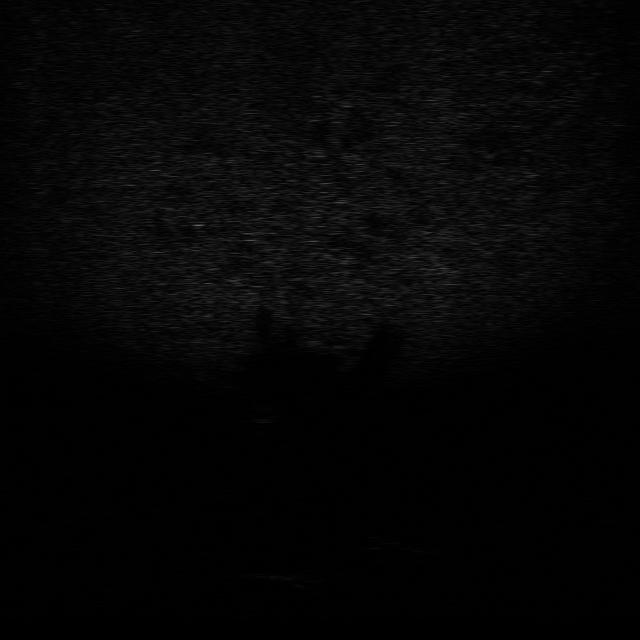ball: (244, 404, 282, 425)
metal bucket: (244, 567, 342, 593)
tyre: (348, 524, 434, 554)
